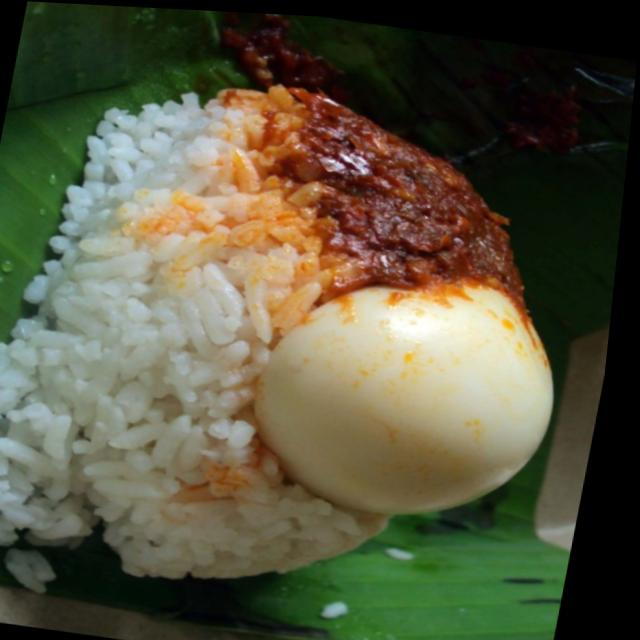CURRY: (316, 91, 518, 293)
EGG: (259, 279, 558, 514)
RICE: (0, 85, 376, 585)
